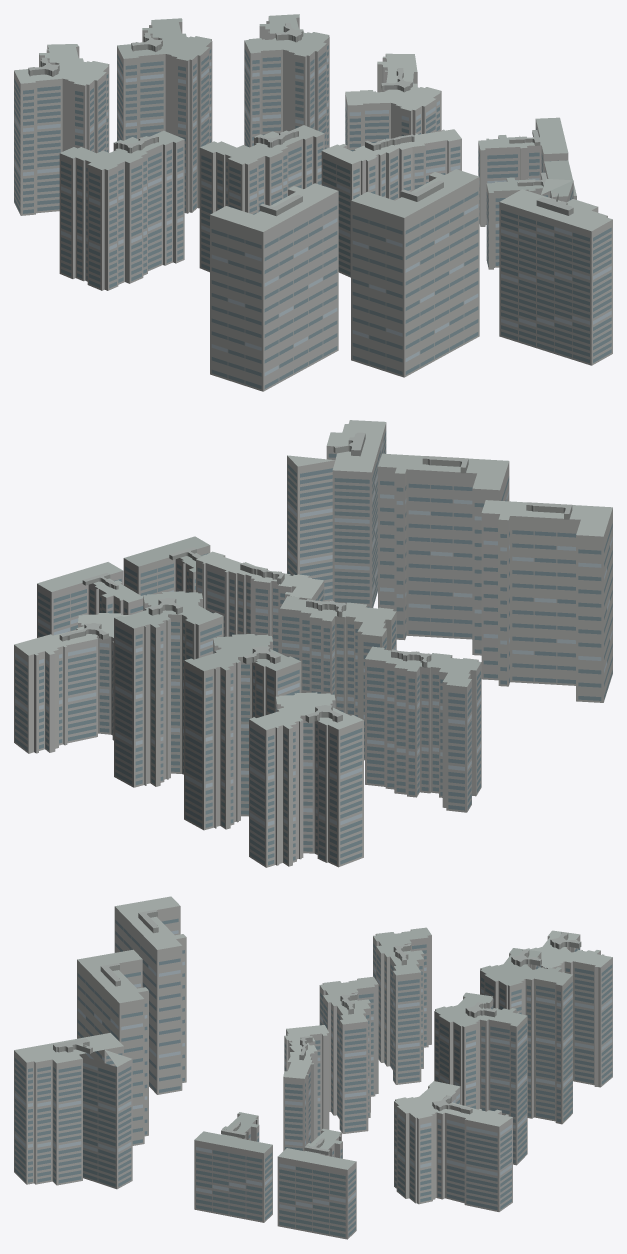
File: apt-a10024947.glb
The picture shows the model from 3 angles, top to bottom: view 1: azimuth 30°, elevation 25°; view 2: azimuth 150°, elevation 25°; view 3: azimuth 270°, elevation 25°; orthographic projection. The views are drawn at different scales.
Visible parts, largest first — view 1: apt-a10024947; view 2: apt-a10024947; view 3: apt-a10024947.
Part boxes in pixels (<box>): apt-a10024947: <box>14,14,612,391</box>; apt-a10024947: <box>14,420,612,867</box>; apt-a10024947: <box>14,896,612,1239</box>.
Bounding box in the file's own units: 208 × 72 × 260.
